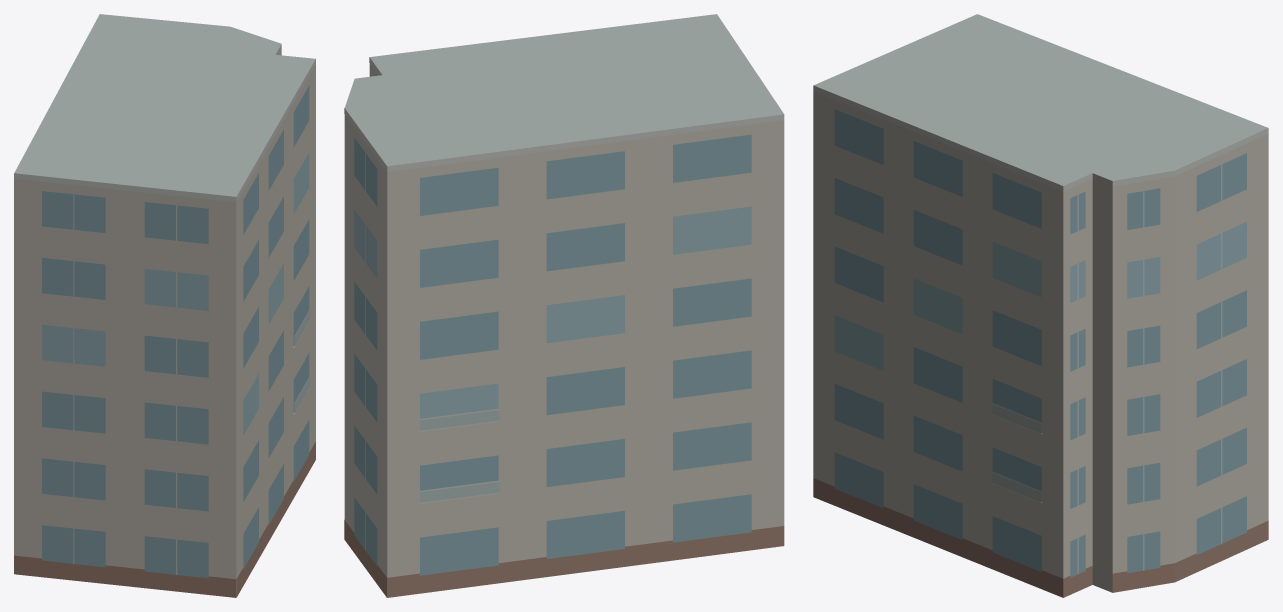
The model's file is survey-upis-32878091.glb.
3 views of the same model, side by side, from view 1: azimuth 30°, elevation 25°; view 2: azimuth 150°, elevation 25°; view 3: azimuth 270°, elevation 25° (orthographic). The views are drawn at different scales.
Visible parts, largest first — view 1: survey-upis-32878091.tmp; view 2: survey-upis-32878091.tmp; view 3: survey-upis-32878091.tmp.
Part boxes in pixels (x1,y1,x2,y2): survey-upis-32878091.tmp: (14,14,315,597); survey-upis-32878091.tmp: (344,14,784,597); survey-upis-32878091.tmp: (813,14,1268,597).
Size of the model in its own units: 16.15 by 18 by 18.04.
